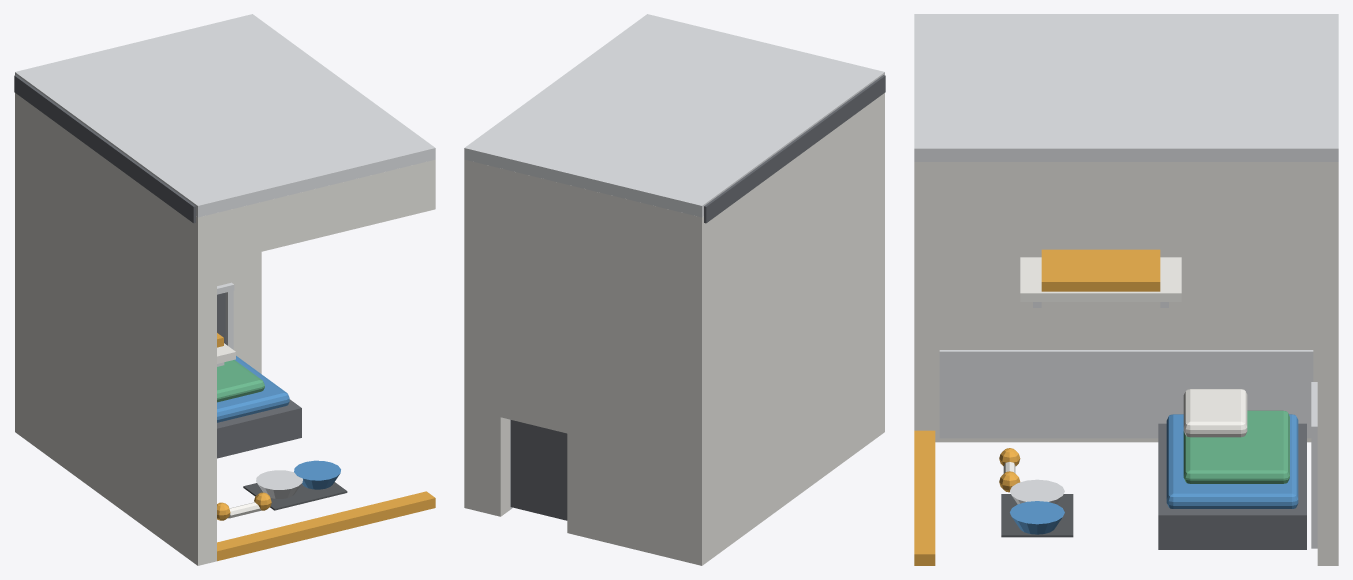
Rendered from boarding-kennels-and-cattery-boarding-kennels-and-catt-696b22e2__35532.glb.
3 views of the same model, side by side, from view 1: azimuth 30°, elevation 25°; view 2: azimuth 150°, elevation 25°; view 3: azimuth 270°, elevation 25° (orthographic). The views are drawn at different scales.
Visible parts, largest first — view 1: boarding-kennels-and-cattery-kennel-bay-furnished; view 2: boarding-kennels-and-cattery-kennel-bay-furnished, pop-hatch/charcoal; view 3: boarding-kennels-and-cattery-kennel-bay-furnished.
Part boxes in pixels (left/top/right/bottom): boarding-kennels-and-cattery-kennel-bay-furnished: left=14, top=14, right=435, bottom=565; boarding-kennels-and-cattery-kennel-bay-furnished: left=464, top=14, right=885, bottom=565; pop-hatch/charcoal: left=510, top=420, right=567, bottom=520; boarding-kennels-and-cattery-kennel-bay-furnished: left=914, top=14, right=1338, bottom=565.
Size of the model in its own units: 1.51 by 2.17 by 2.
